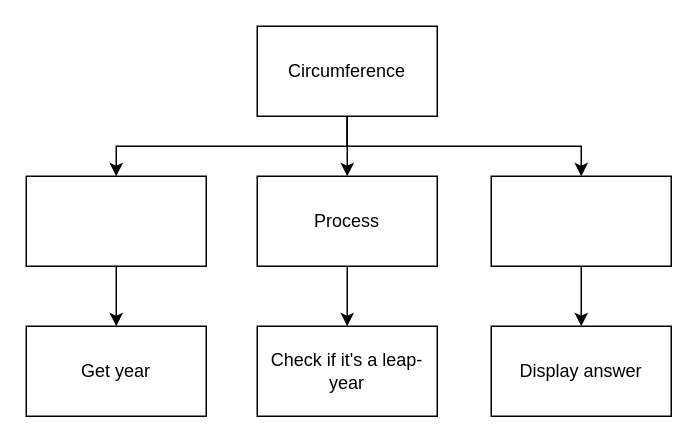
The diagram is 698 pixels wide and 443 high, and some of its shapes have lost their labels. Each missing label, with the box of its shape:
Input: (25, 175, 206, 266)
output: (490, 175, 671, 266)
